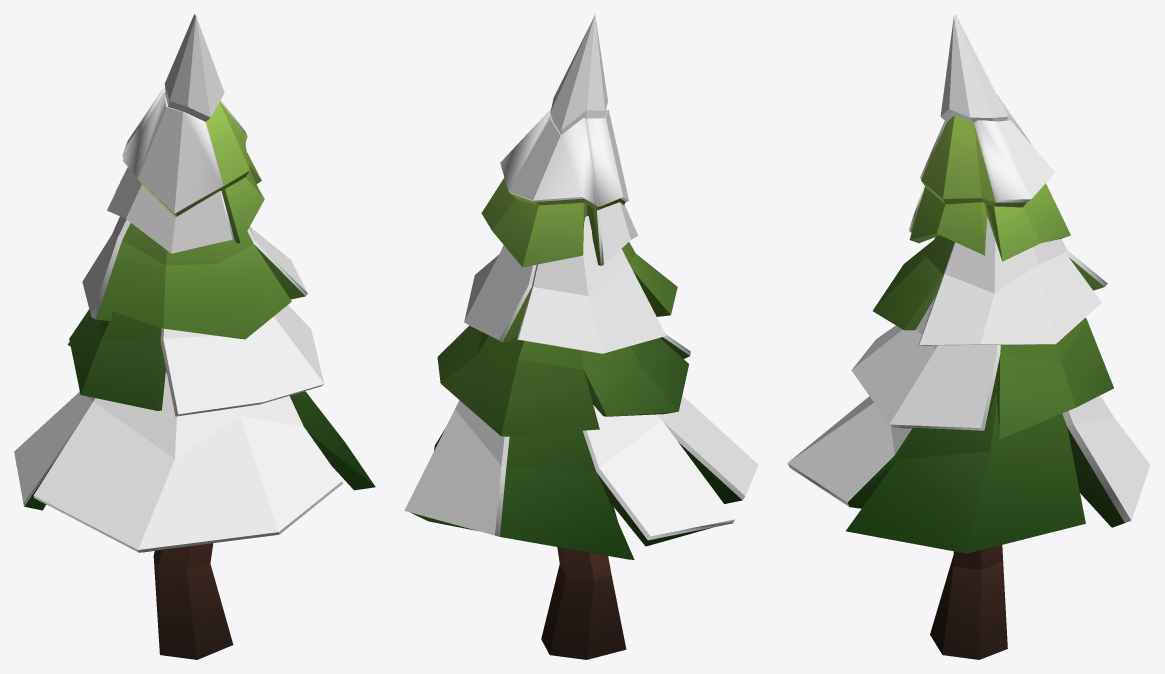
File: SNOW_TREE_V2.glb
3 renders of one model, left to right at view 1: azimuth 30°, elevation 25°; view 2: azimuth 150°, elevation 25°; view 3: azimuth 270°, elevation 25°, orthographic.
Parts seen in each view (by area): view 1: Circle.003; view 2: Circle.003; view 3: Circle.003.
Part boxes in pixels (x1=…): Circle.003: x1=14, y1=14, x2=375, y2=659; Circle.003: x1=404, y1=14, x2=758, y2=659; Circle.003: x1=787, y1=14, x2=1150, y2=659.
Size of the model in its own units: 1.64 by 3.18 by 1.67.
Materials: 2 (1 with a texture image).
